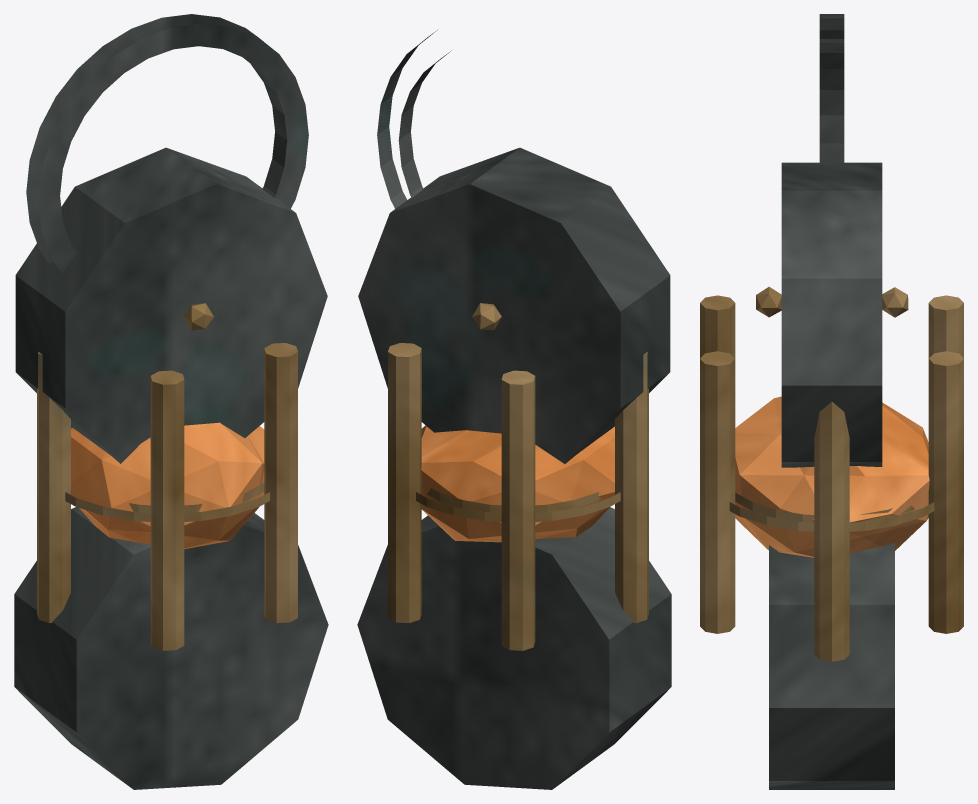
File: 0906_lantern_06.glb
3 renders of one model, left to right at view 1: azimuth 30°, elevation 25°; view 2: azimuth 150°, elevation 25°; view 3: azimuth 270°, elevation 25°, orthographic.
Parts seen in each view (by area): view 1: iron, brass, amber; view 2: iron, brass, amber; view 3: iron, brass, amber.
Boxes of the visible parts, box(x1,y1,x2,y2) form: iron: box(14, 14, 328, 789); brass: box(37, 303, 297, 650); amber: box(71, 422, 264, 549); iron: box(357, 30, 671, 789); brass: box(388, 303, 648, 650); amber: box(421, 425, 614, 542); iron: box(769, 14, 894, 789); brass: box(700, 286, 963, 661); amber: box(735, 396, 929, 557).
Size of the model in its own units: 0.5 by 1.32 by 0.4197.
Materials: 3 (3 with a texture image).
